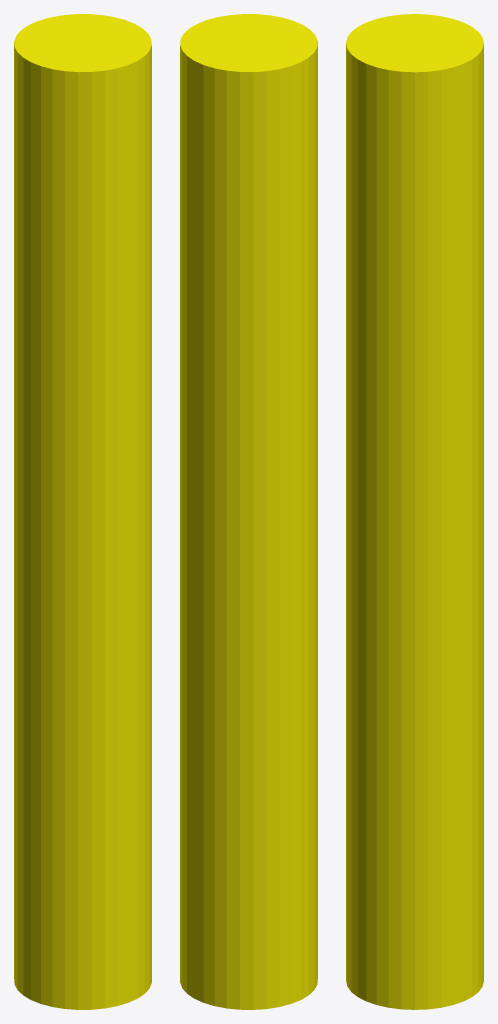
The model's file is cylinder_yellow.glb.
3 renders of one model, left to right at view 1: azimuth 30°, elevation 25°; view 2: azimuth 150°, elevation 25°; view 3: azimuth 270°, elevation 25°, orthographic.
Parts seen in each view (by area): view 1: Cylinder; view 2: Cylinder; view 3: Cylinder.
Boxes of the visible parts, x1,y1,x2,y2 form: Cylinder: [14, 14, 151, 1009]; Cylinder: [180, 14, 317, 1009]; Cylinder: [346, 14, 483, 1009].
Bounding box in the file's own units: 0.2 × 1.5 × 0.2.
